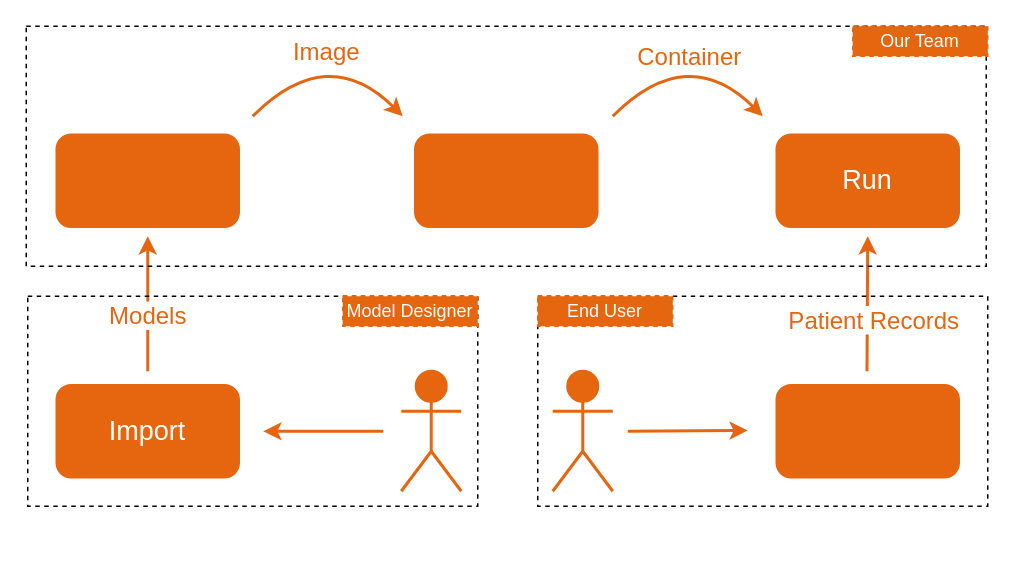
The diagram is 1014 pixels wide and 561 high, and some of its shapes have lost their labels. Here are the shapes that lost their labels. From the top down, the box of each, then its label:
(55, 133, 239, 227): Build
(413, 133, 598, 227): Deploy
(775, 383, 959, 478): Use
